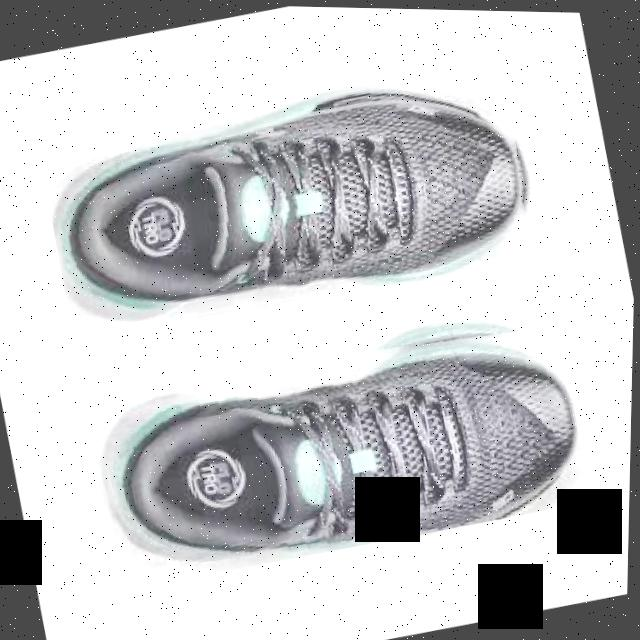shoe: (34, 42, 547, 351), (86, 290, 597, 597)
